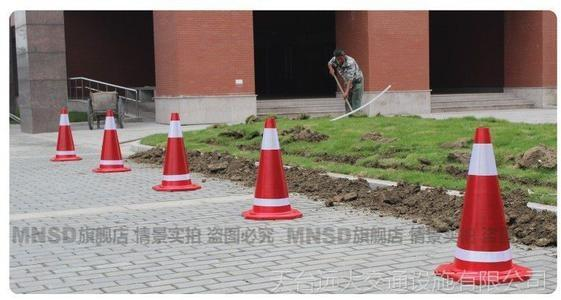cone_barrel: (440, 126, 522, 279), (240, 116, 299, 219), (152, 112, 198, 193), (90, 107, 128, 172), (48, 104, 79, 162)
